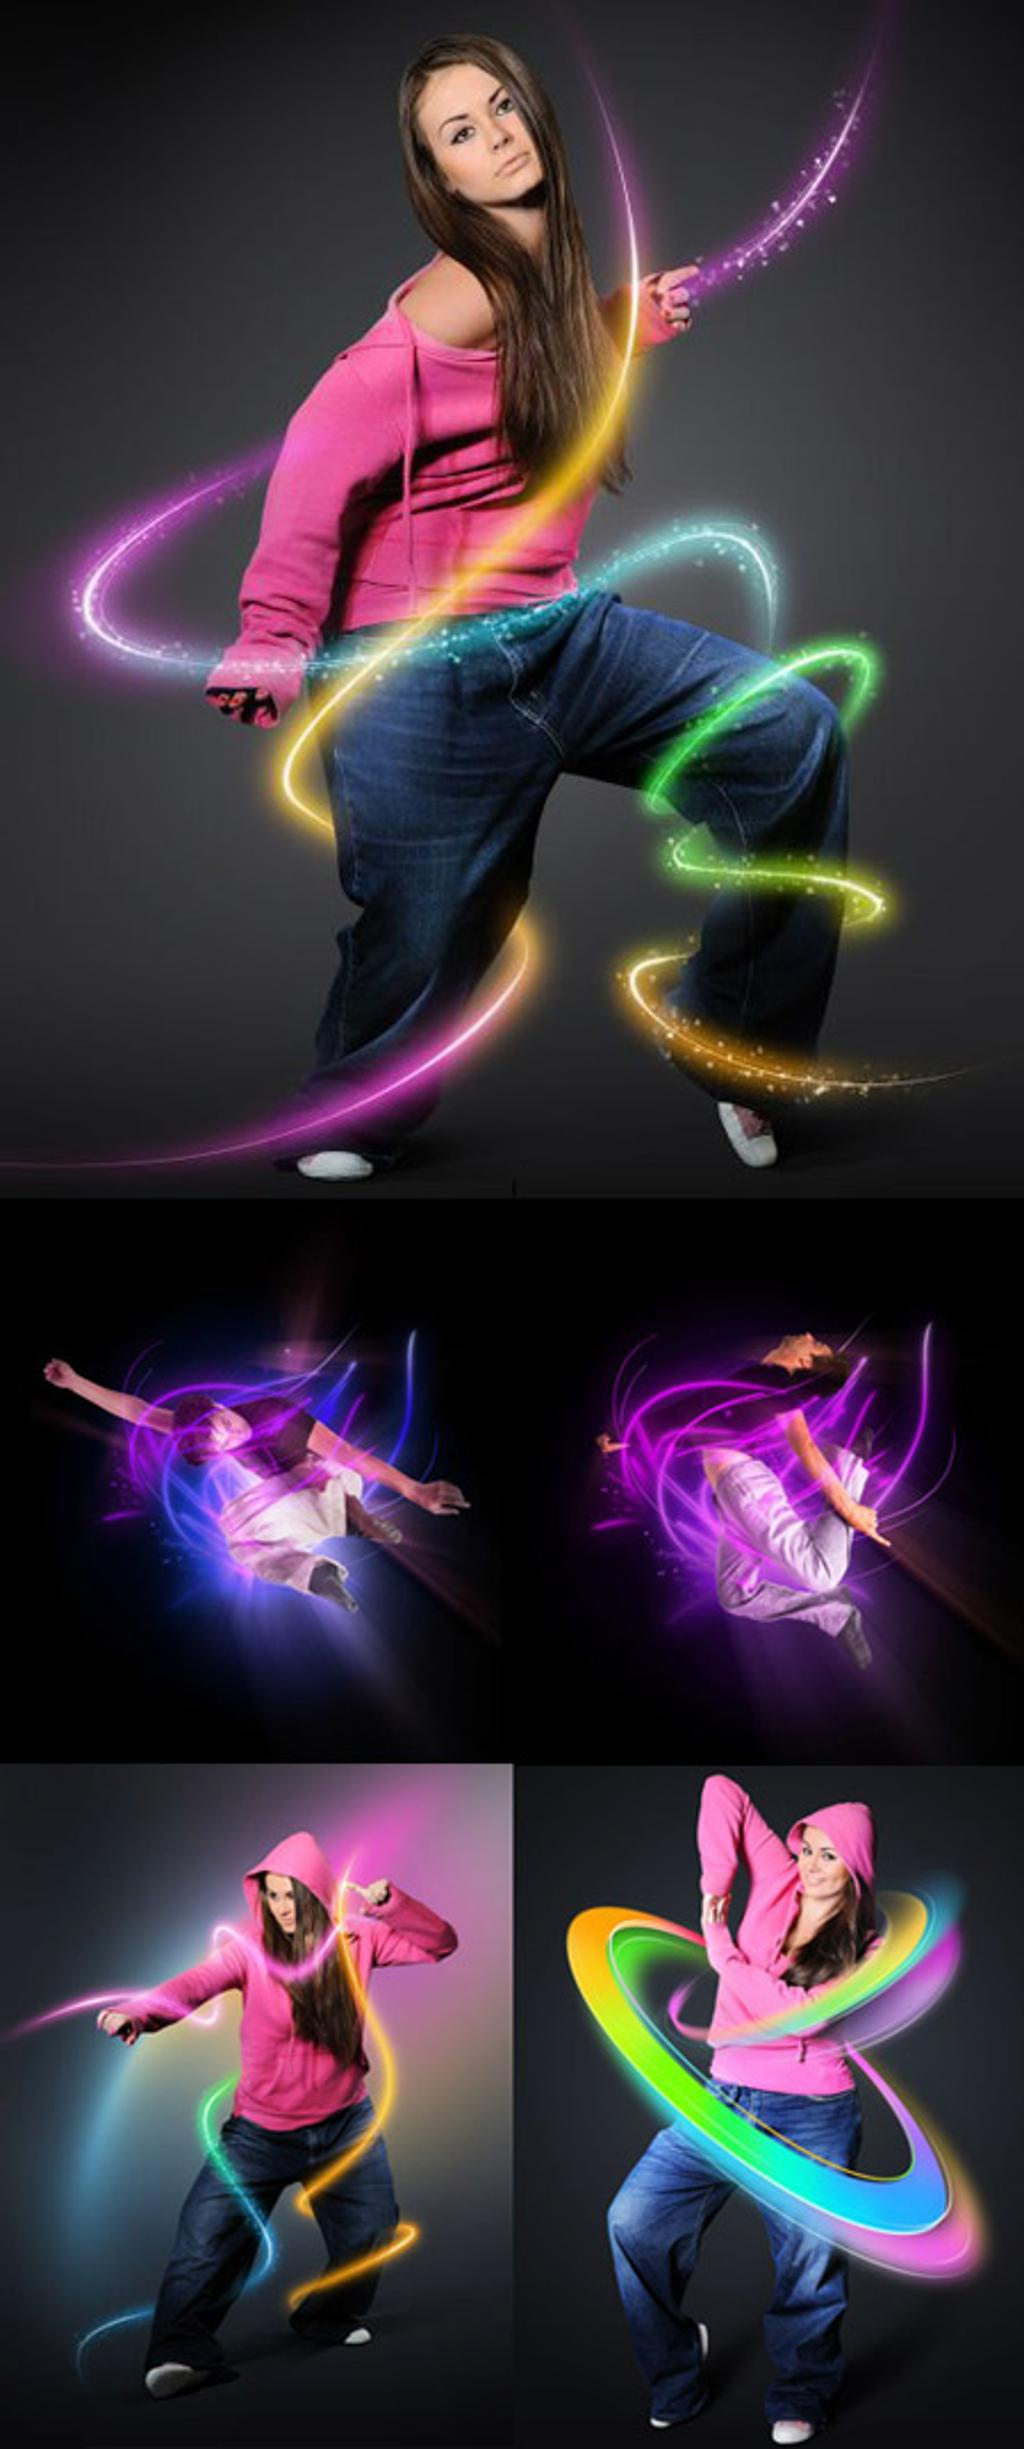face: (419, 68, 545, 198), (801, 1826, 846, 1894), (267, 1876, 302, 1934), (784, 1332, 829, 1369), (209, 1413, 253, 1451)
